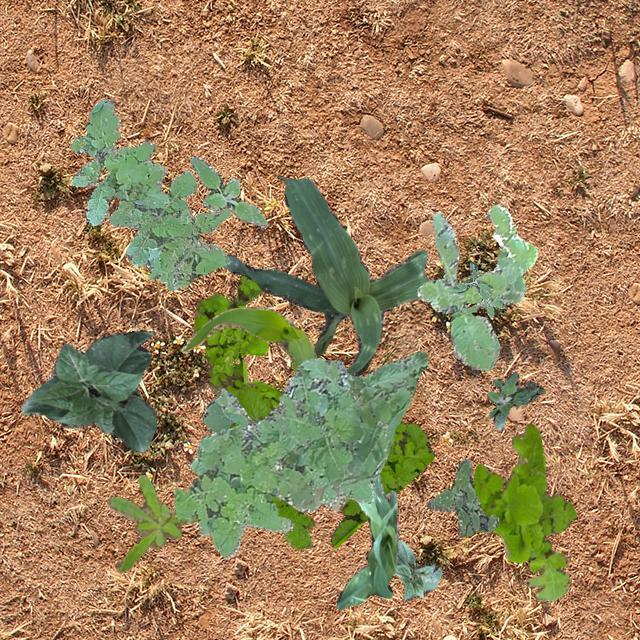crop: (222, 176, 428, 376), (21, 328, 156, 451), (180, 306, 316, 374), (336, 474, 396, 608), (392, 540, 440, 600), (202, 397, 234, 432)
weed: (192, 274, 434, 546), (174, 352, 426, 556), (70, 98, 230, 290), (416, 203, 536, 370), (472, 422, 576, 600), (228, 382, 312, 548), (106, 474, 198, 572), (426, 458, 498, 536), (188, 154, 266, 226), (486, 372, 544, 428), (448, 260, 503, 316)
